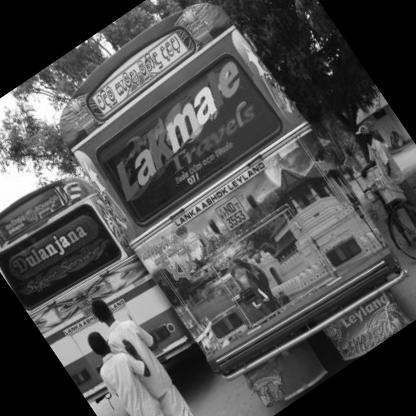bus: (26, 1, 416, 407), (1, 152, 209, 416)
